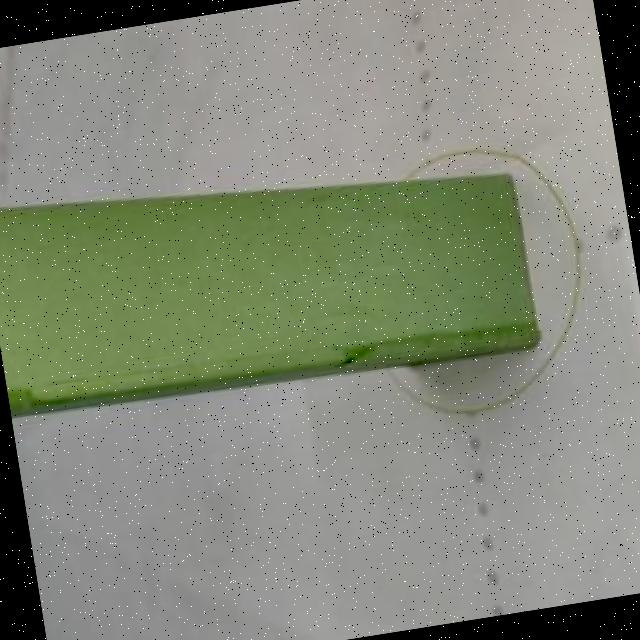greenbox: (0, 121, 547, 424)
